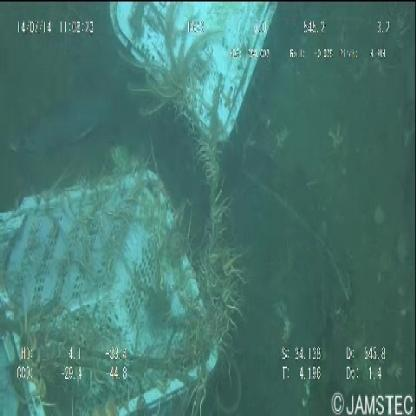Rác: (1, 1, 284, 412)
